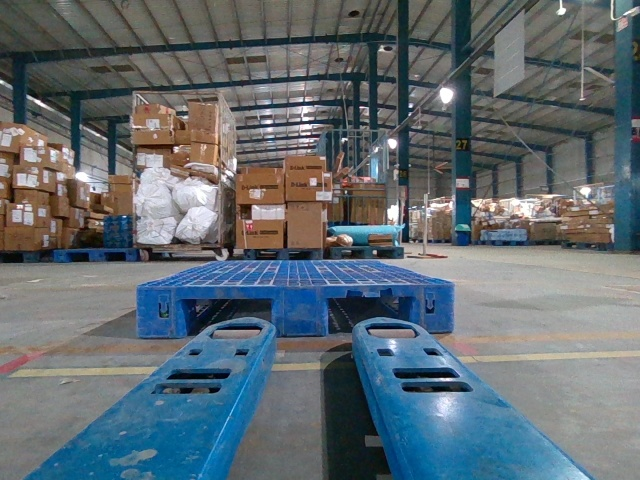pallet: (136, 282, 457, 336)
